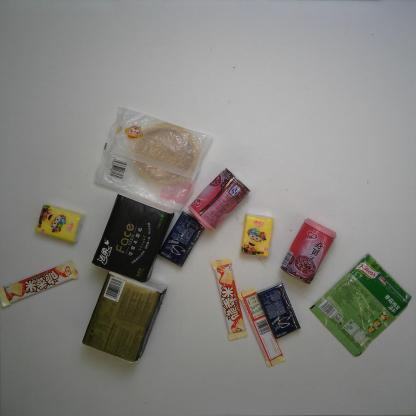Canned Food: (280, 212, 341, 285), (184, 167, 250, 234)
Chocolate: (1, 258, 80, 309), (238, 286, 286, 369), (212, 257, 249, 341)
Dessert: (92, 102, 216, 216)
Gum: (155, 210, 208, 268), (253, 282, 302, 339)
Seasoner: (307, 249, 414, 359)
Tissue: (76, 268, 169, 364), (86, 190, 177, 285), (30, 197, 84, 248), (236, 214, 278, 258)
